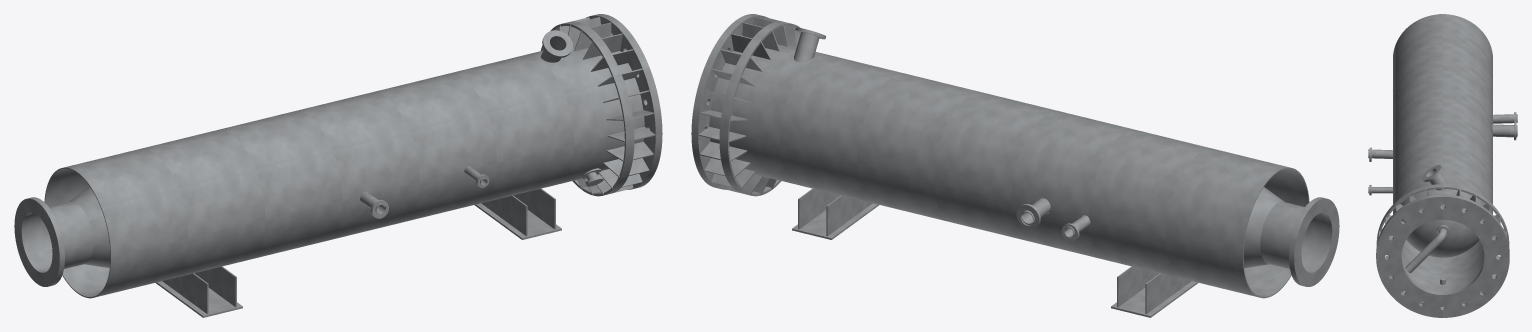
The model's file is liquid-seal-drum.glb.
3 renders of one model, left to right at view 1: azimuth 30°, elevation 25°; view 2: azimuth 150°, elevation 25°; view 3: azimuth 270°, elevation 25°, orthographic. The views are drawn at different scales.
Visible parts, largest first — view 1: Shell, TailCone&Outlet, GussetRing, SupportBracket, InletFlange, VentBranch, NozzleC; view 2: Shell, TailCone&Outlet, GussetRing, SupportBracket, InletFlange, NozzleA, VentBranch, NozzleB; view 3: Shell, InletFlange, SealBaffle, GussetRing, SealPipe, VentBranch, NozzleA, NozzleC, NozzleB, NozzleD.
Boxes of the visible parts, x1,y1,x2,y2 form: Shell: [44, 44, 644, 298]; TailCone&Outlet: [14, 175, 179, 286]; GussetRing: [540, 17, 655, 196]; SupportBracket: [155, 188, 561, 317]; InletFlange: [586, 14, 662, 189]; VentBranch: [540, 30, 572, 62]; NozzleC: [360, 191, 388, 218]; Shell: [709, 44, 1309, 298]; TailCone&Outlet: [1174, 175, 1339, 286]; GussetRing: [698, 17, 800, 196]; SupportBracket: [792, 188, 1198, 317]; InletFlange: [691, 14, 767, 189]; NozzleA: [1016, 198, 1050, 229]; VentBranch: [794, 27, 825, 62]; NozzleB: [1061, 215, 1090, 242]; Shell: [1393, 14, 1492, 302]; InletFlange: [1376, 194, 1509, 317]; SealBaffle: [1406, 219, 1479, 257]; GussetRing: [1376, 184, 1509, 307]; SealPipe: [1405, 225, 1449, 272]; VentBranch: [1421, 165, 1448, 190]; NozzleA: [1492, 120, 1517, 140]; NozzleC: [1368, 147, 1392, 161]; NozzleB: [1493, 112, 1517, 123]; NozzleD: [1368, 185, 1392, 195].
Bounding box in the file's own units: 9.03 × 2.66 × 2.68.
Materials: 1 (1 with a texture image).
